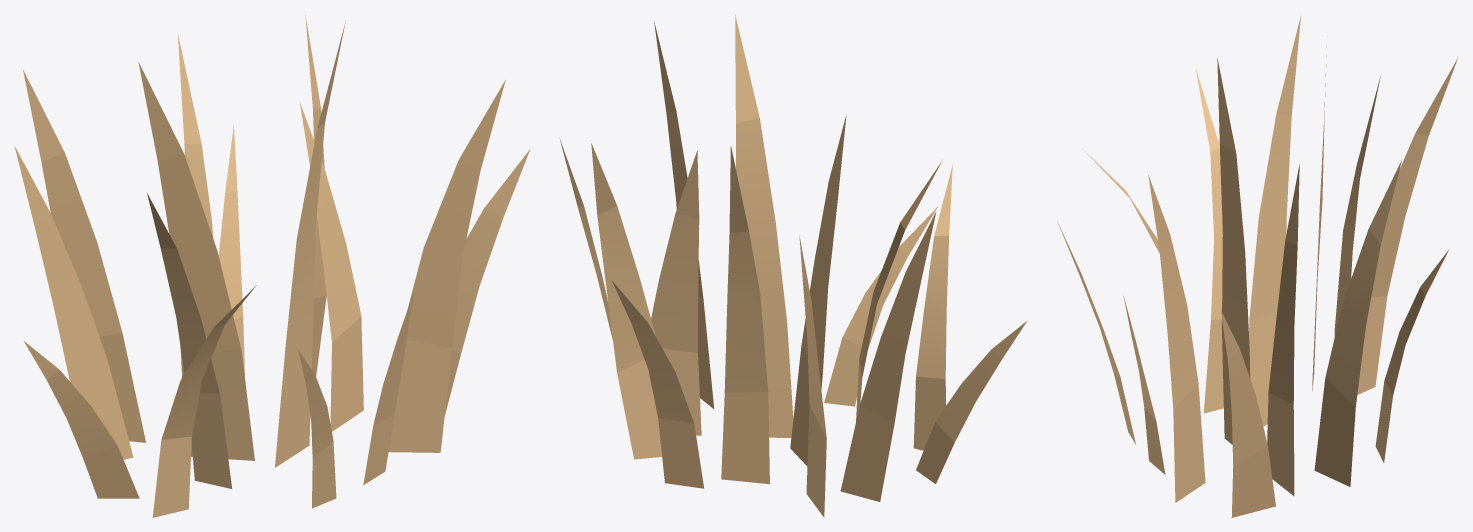
File: Grass_2.fbx
The picture shows the model from 3 angles, left to right: view 1: azimuth 30°, elevation 25°; view 2: azimuth 150°, elevation 25°; view 3: azimuth 270°, elevation 25°; orthographic projection. The views are drawn at different scales.
Visible parts, largest first — view 1: Grass_2; view 2: Grass_2; view 3: Grass_2.
Boxes of the visible parts, left/top/right/bottom form: Grass_2: left=14, top=15, right=530, bottom=517; Grass_2: left=560, top=14, right=1026, bottom=517; Grass_2: left=1057, top=16, right=1458, bottom=517.
Bounding box in the file's own units: 23.35 × 19.24 × 17.02.
1 material, 1 textured.
